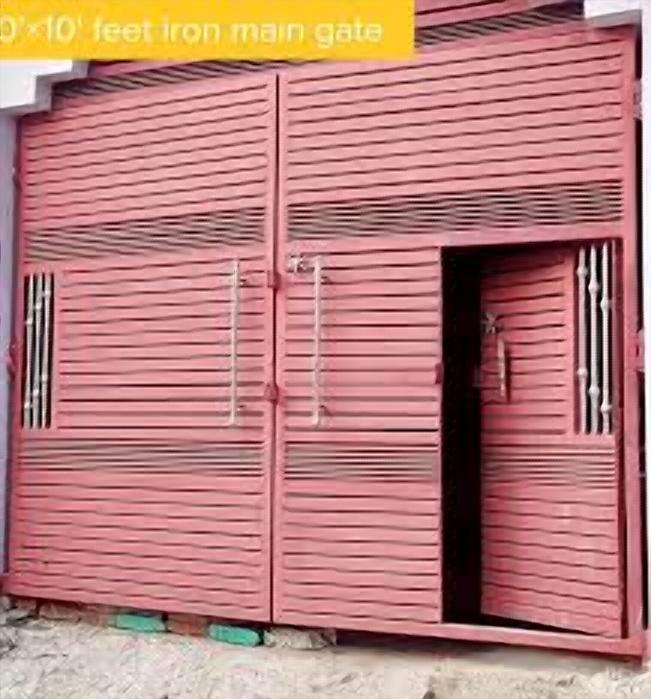Gate: (0, 0, 651, 653)
